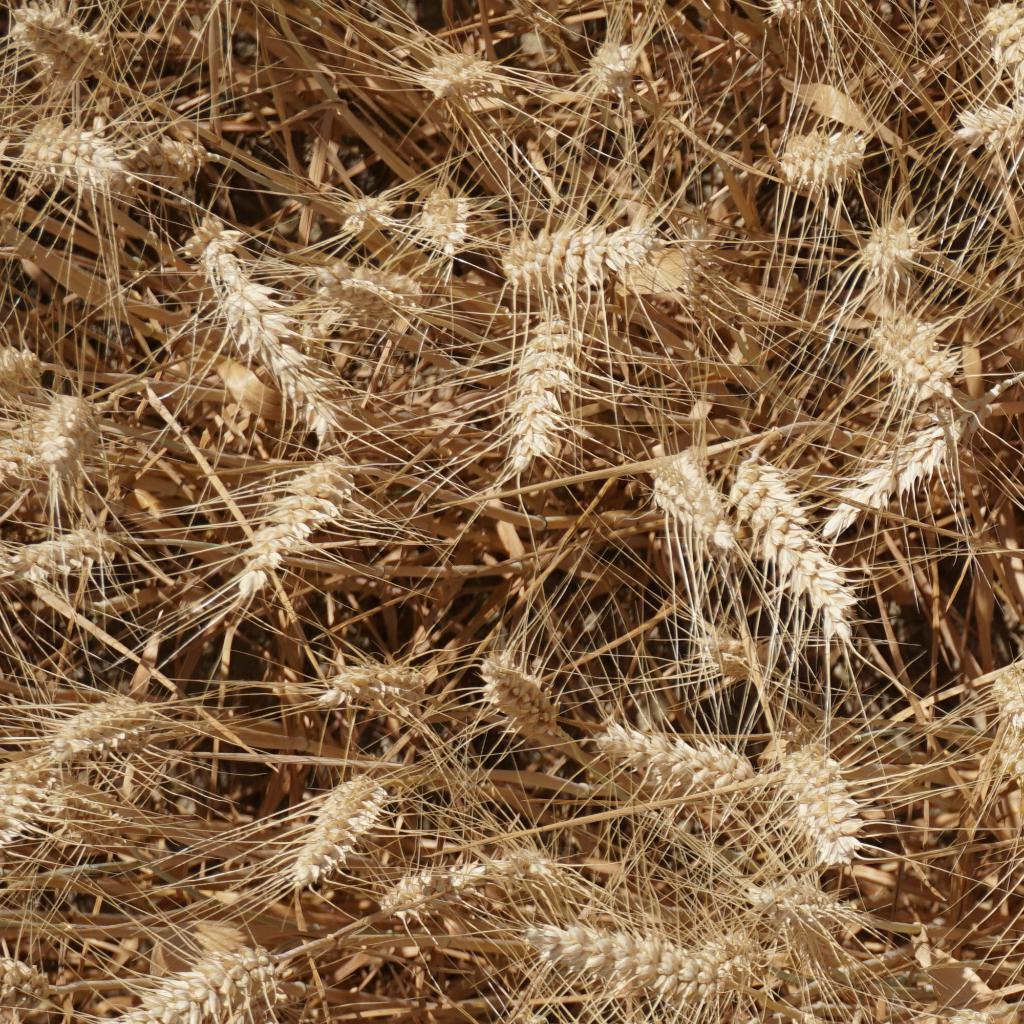0-0: (179, 230, 326, 425), (736, 449, 864, 637), (490, 295, 588, 484), (574, 702, 754, 803), (518, 900, 691, 1000), (815, 421, 974, 525), (763, 736, 880, 866), (242, 449, 352, 574), (39, 671, 175, 770), (480, 642, 588, 760), (323, 637, 446, 732), (120, 943, 262, 1024), (486, 210, 632, 287), (0, 722, 82, 854), (868, 307, 956, 417), (273, 774, 377, 866), (653, 437, 732, 555), (17, 388, 104, 492), (397, 165, 486, 260), (386, 840, 512, 907), (761, 116, 874, 190), (0, 4, 134, 65), (677, 921, 783, 998), (21, 106, 118, 185), (0, 523, 112, 588), (399, 43, 496, 114), (318, 258, 425, 321), (933, 76, 1021, 145), (689, 606, 758, 689), (840, 212, 917, 279), (569, 37, 649, 100), (328, 176, 406, 239), (994, 15, 1024, 169), (121, 121, 200, 177), (0, 953, 60, 1012), (984, 714, 1024, 787), (0, 328, 45, 388), (986, 657, 1024, 722)
